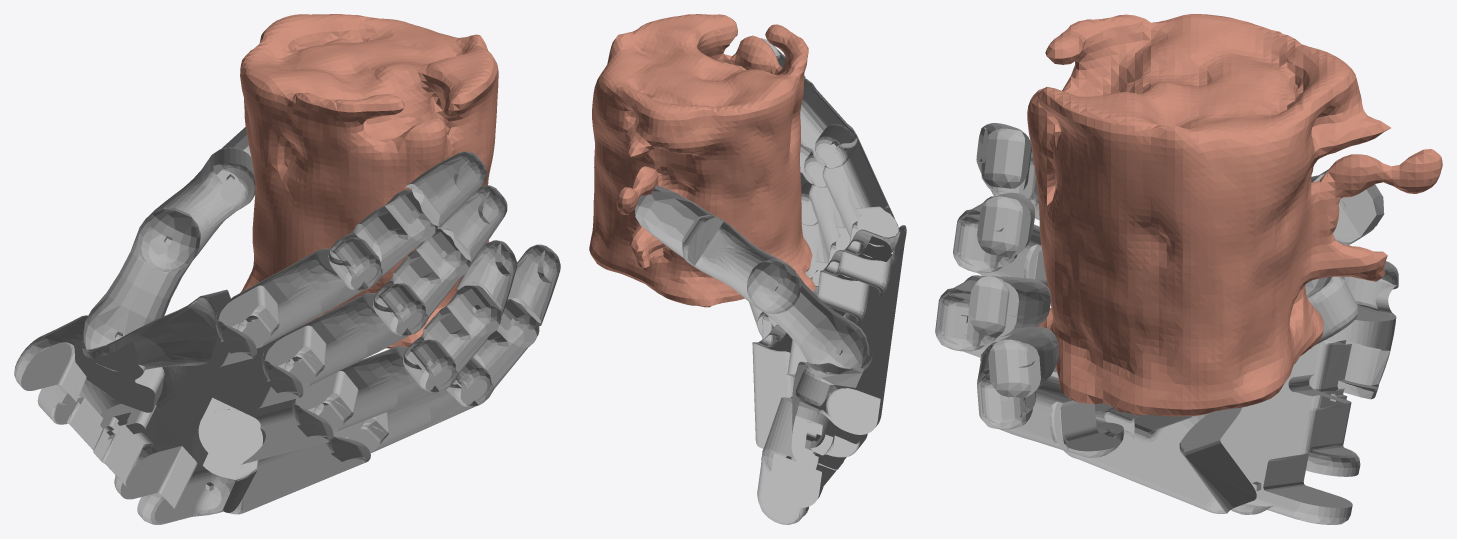
The picture shows the model from 3 angles, left to right: view 1: azimuth 30°, elevation 25°; view 2: azimuth 150°, elevation 25°; view 3: azimuth 270°, elevation 25°; orthographic projection. The views are drawn at different scales.
Parts seen in each view (by area): view 1: world; view 2: world; view 3: world.
Boxes of the visible parts, x1,y1,x2,y2 form: world: (14,14,560,524); world: (589,14,906,524); world: (935,14,1442,524).
Size of the model in its own units: 1.06 by 1.2 by 0.9897.
